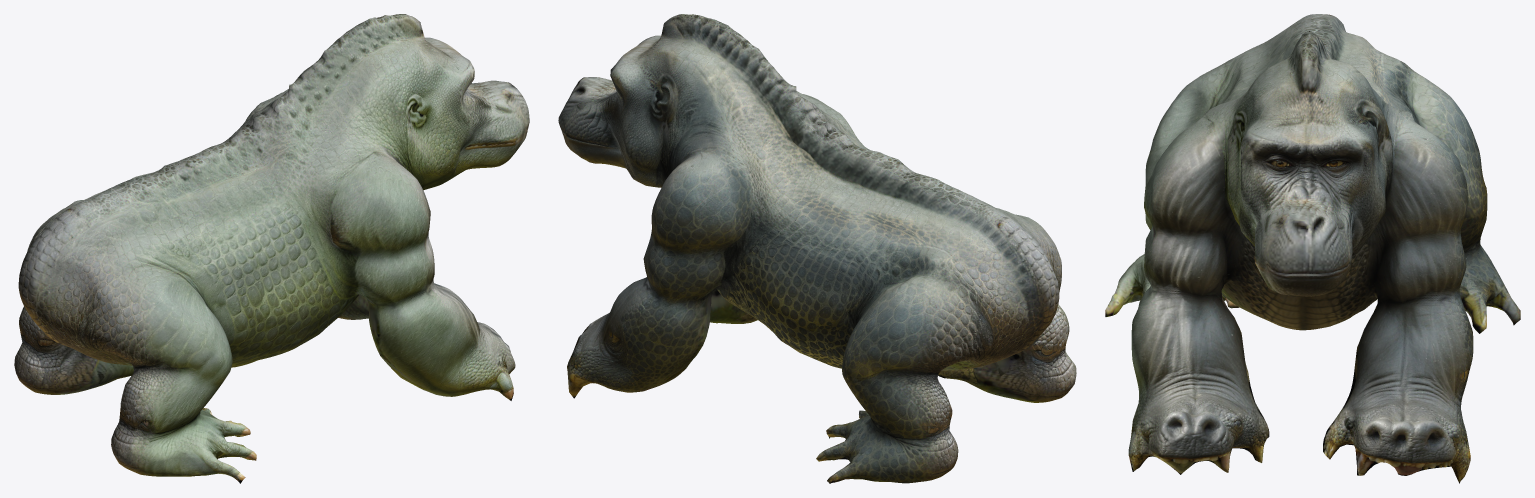
Rendered from monster5.glb.
The picture shows the model from 3 angles, left to right: view 1: azimuth 30°, elevation 25°; view 2: azimuth 150°, elevation 25°; view 3: azimuth 270°, elevation 25°; orthographic projection. The views are drawn at different scales.
Size of the model in its own units: 1.2 by 0.8186 by 0.7551.
Materials: 1 (1 with a texture image).
